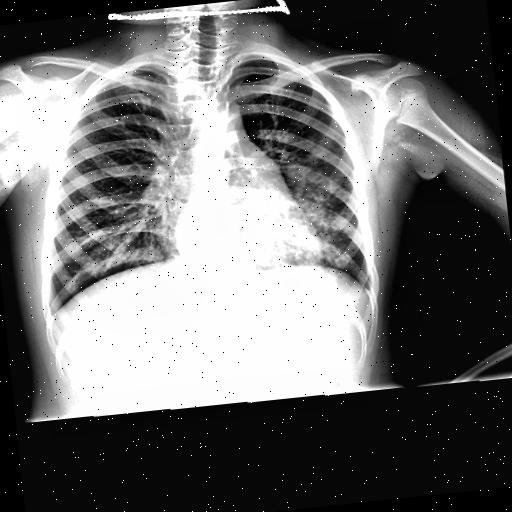10- Pleural effusion: (356, 278, 380, 297), (45, 302, 58, 322)
11- Pleural thickening: (356, 278, 380, 297), (45, 302, 58, 322)
13- Pulmonary fibrosis: (258, 159, 360, 275)
5- ILD: (234, 148, 353, 277)
6- Infiltration: (234, 148, 353, 277), (258, 159, 360, 275), (254, 159, 353, 276)
7- Lung Opacity: (254, 159, 353, 276)
